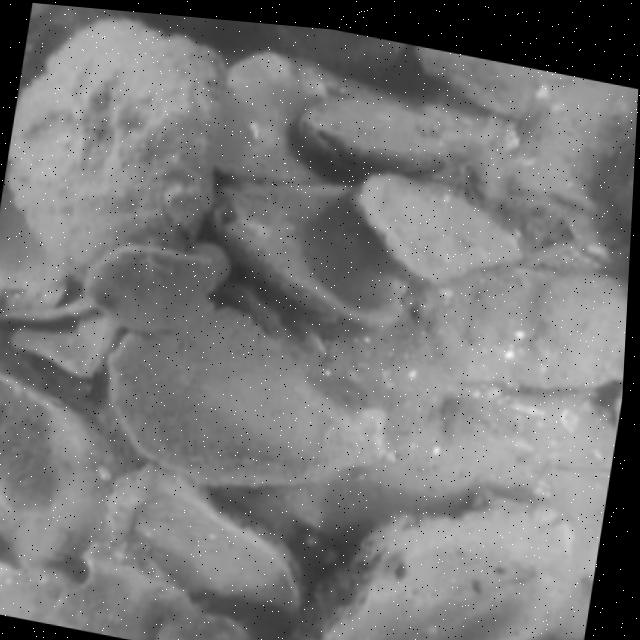Oyster-Indeterminate: (3, 18, 231, 279), (105, 295, 396, 489), (279, 484, 579, 640), (108, 462, 309, 624), (211, 177, 416, 331), (355, 166, 524, 288), (291, 96, 499, 174), (80, 240, 218, 338), (412, 45, 541, 119)
